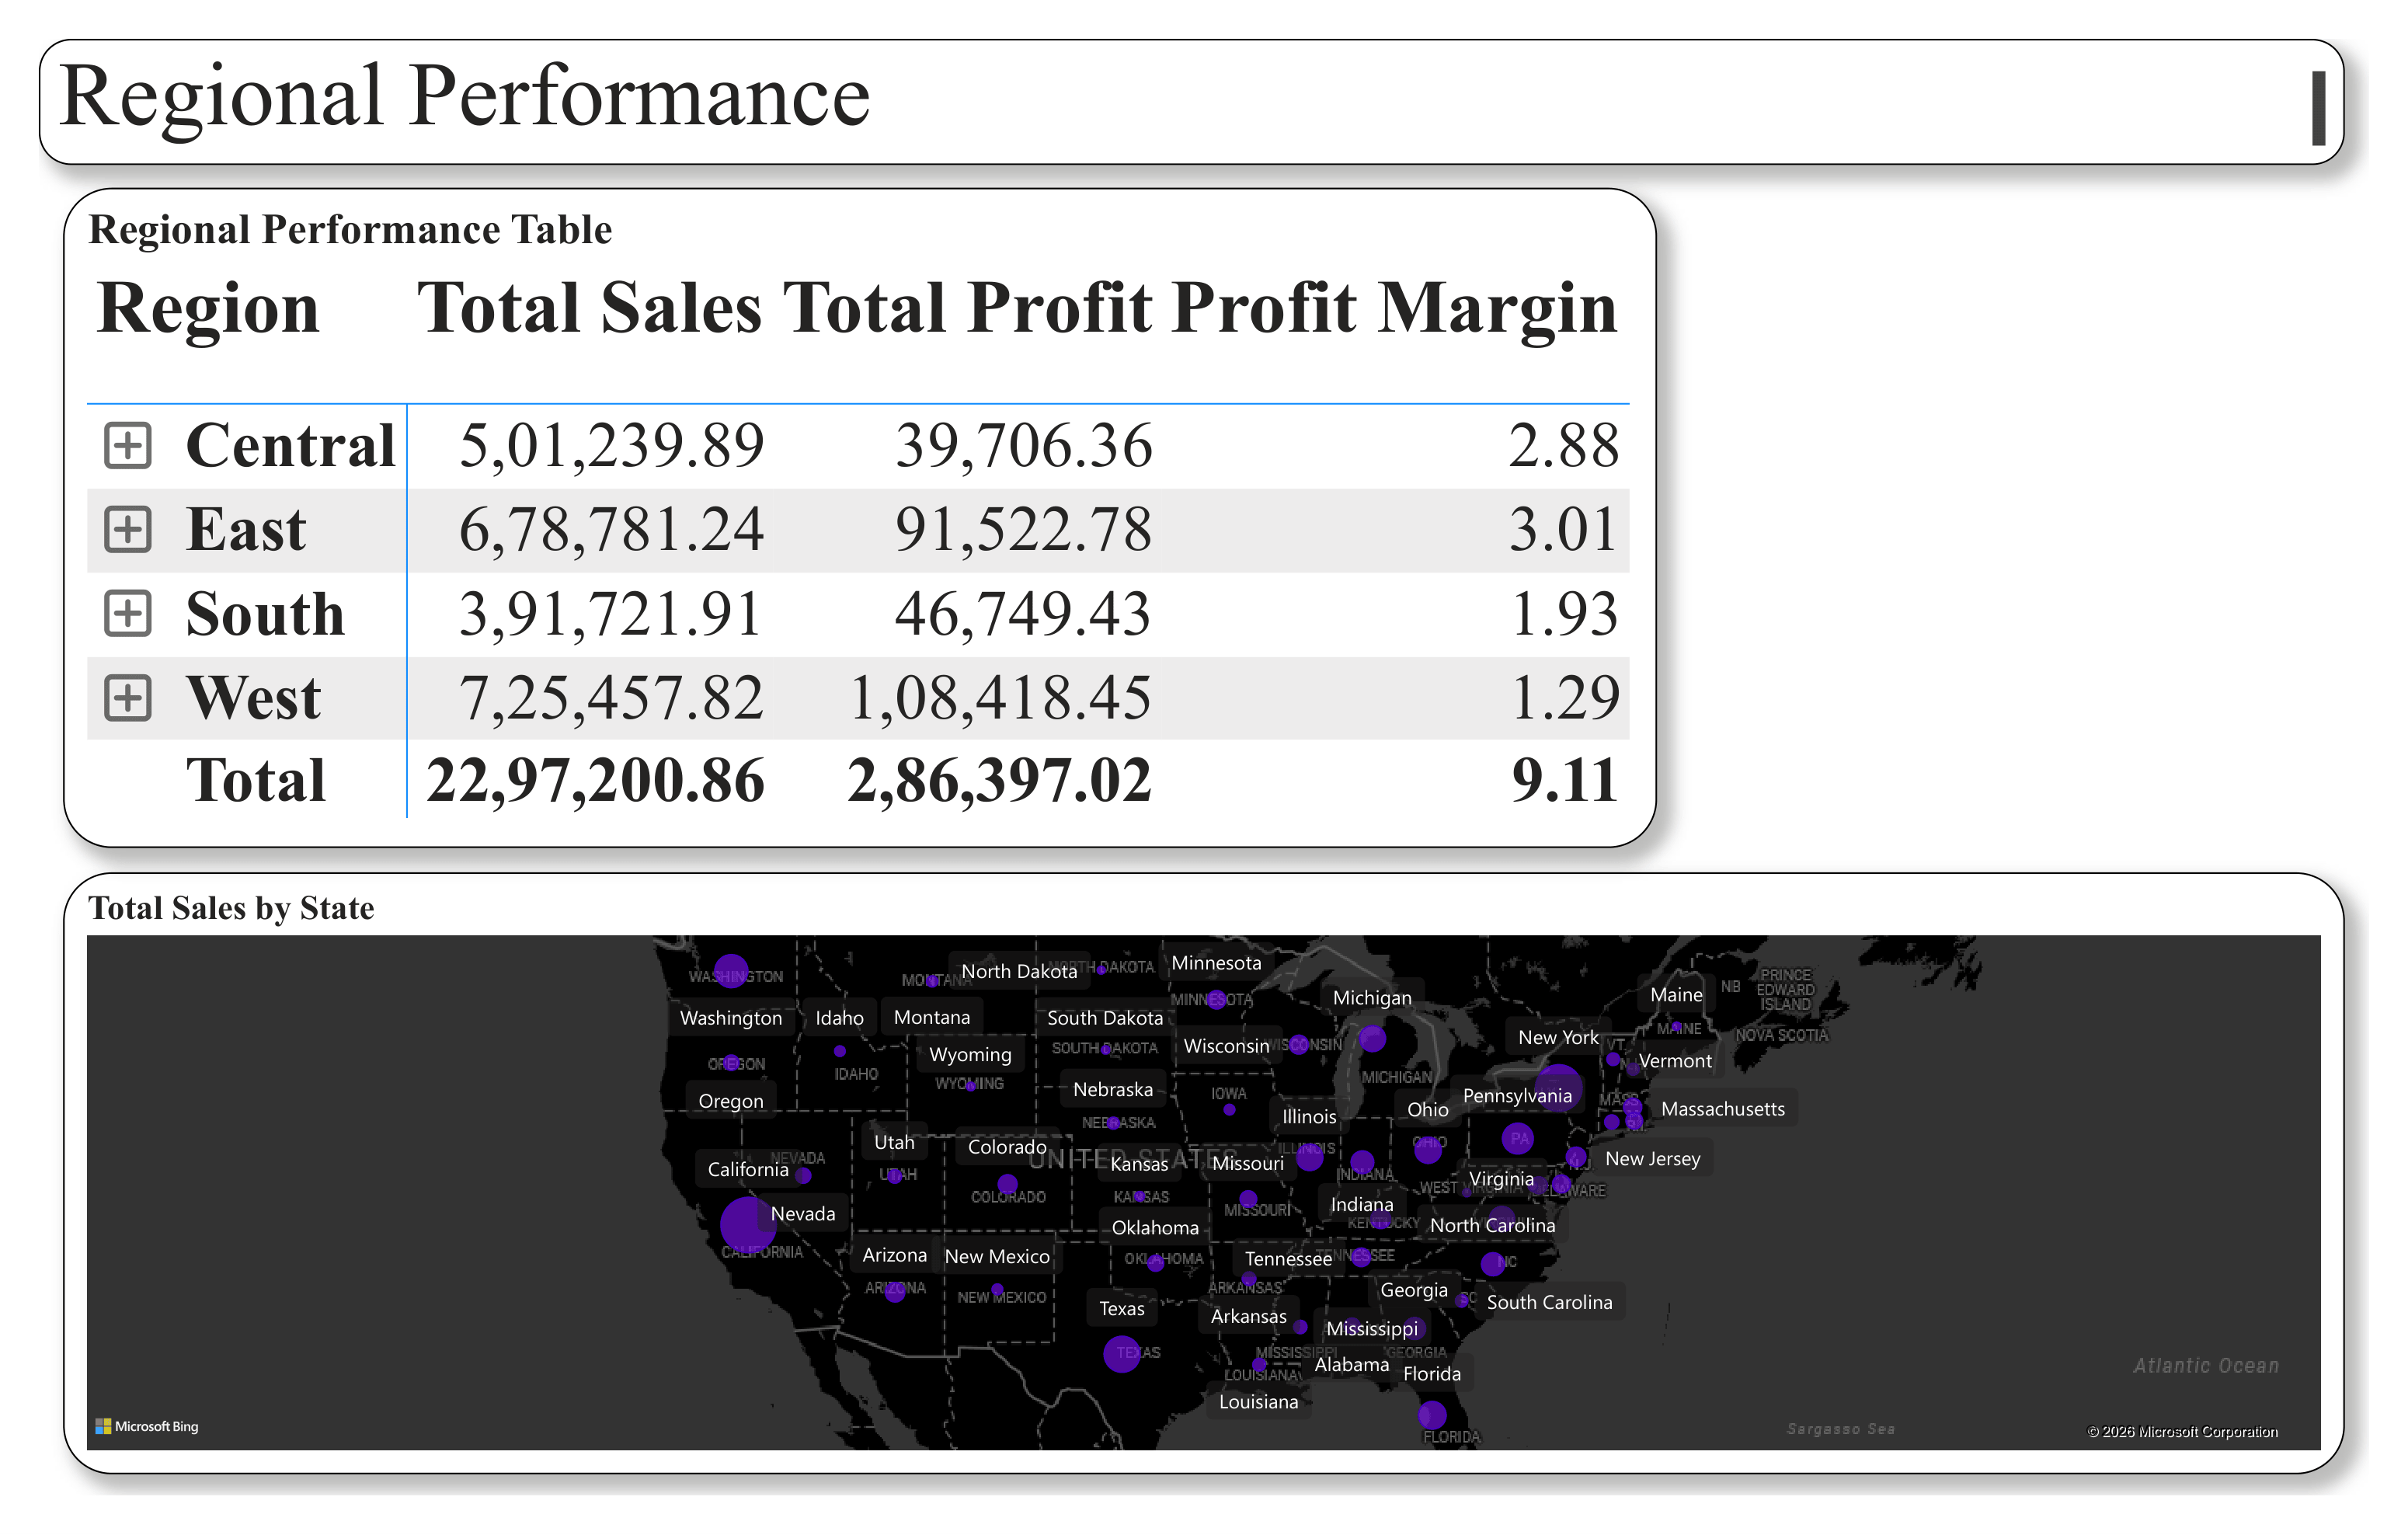

This screenshot's page, from the dashboard's own definition file:
{"tool":"powerbi","page":{"name":"Regional Performance","canvas":[1280,720],"ordinal":2},"visuals":[{"type":"map","title":"Total Sales by State","fields":{"Category":["regional_summary.State"],"Size":["Sum(regional_summary.Total_Sales)"]},"box":[0,79.6,565.4,640.8],"z":0},{"type":"textbox","title":"Regional Performance","box":[0,0,1280,78.6],"z":1},{"type":"pivotTable","title":"Regional Performance Table","fields":{"Rows":["regional_summary.Region","regional_summary.State"],"Values":["Sum(regional_summary.Total_Sales)","Sum(regional_summary.Total_Profit)","Sum(regional_summary.Profit_Margin)"]},"box":[565.4,199,714.9,321.1],"z":3}]}

Visuals, with their boxes on the page's 1280x720 design canvas (x1, y1, x2, y2). These are canvas units, not pixel positions in the 2408x1535 screenshot, which may show the page scaled, cropped or inside an application window:
"Total Sales by State" map: <region>0, 80, 565, 720</region>
"Regional Performance" textbox: <region>0, 0, 1280, 79</region>
"Regional Performance Table" pivotTable: <region>565, 199, 1280, 520</region>
